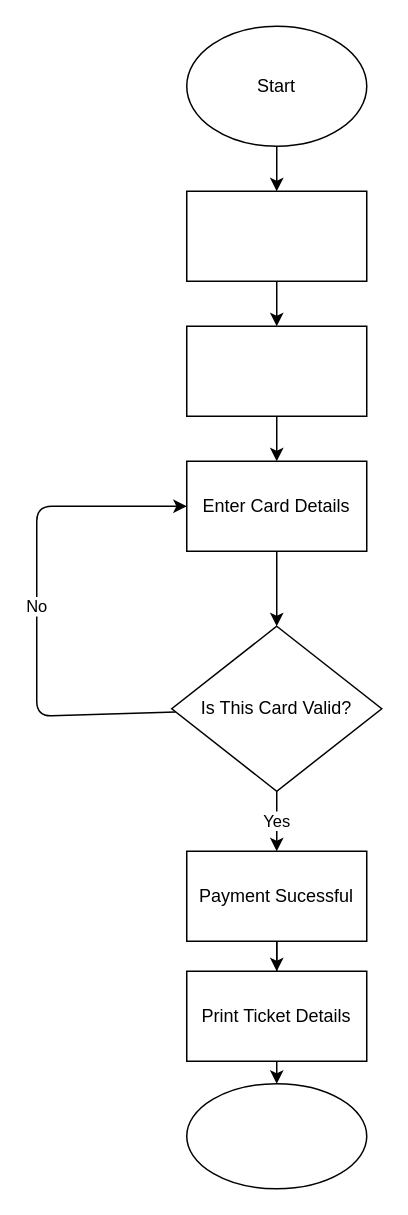
This 408x1215 diagram has some shape labels left out. Here are the shapes that lost their labels. From the top down, the centre of each, then its label:
At point 276,235: "Select Bus Seat".
At point 276,370: "Buy".
At point 276,1135: "End".
